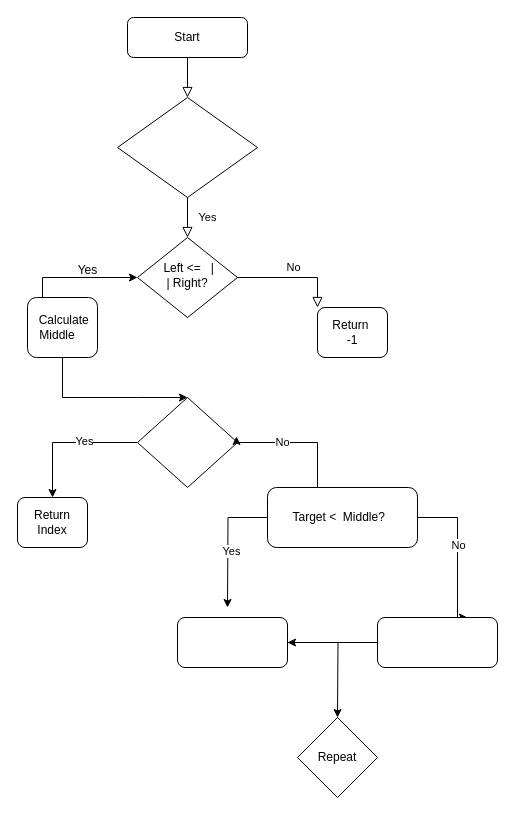
The diagram is 515 pixels wide and 815 high, and some of its shapes have lost their labels. Each missing label, with the box of its shape:
Initialize left, | | right pointers: (116, 96, 258, 198)
Left = Middle + 1: (376, 616, 498, 668)
Middle == Target?: (136, 396, 238, 488)
Right = Middle - 1: (176, 616, 288, 668)
